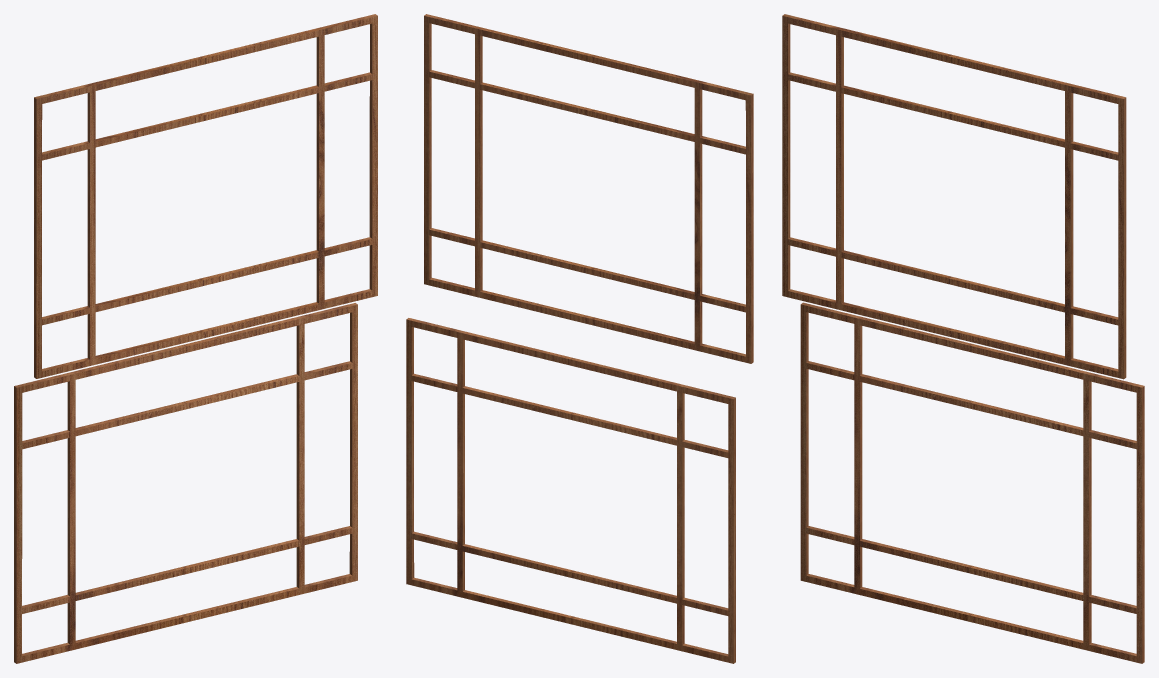
Rendered from Normal_SH_Big_Fractional.obj.
3 renders of one model, left to right at view 1: azimuth 30°, elevation 25°; view 2: azimuth 150°, elevation 25°; view 3: azimuth 330°, elevation 25°, orthographic. The views are drawn at different scales.
Visible parts, largest first — view 1: SH_Big_Fractional; view 2: SH_Big_Fractional; view 3: SH_Big_Fractional.
Boxes of the visible parts, bbox=[...] form: SH_Big_Fractional: bbox=[14, 14, 377, 663]; SH_Big_Fractional: bbox=[406, 14, 753, 663]; SH_Big_Fractional: bbox=[782, 14, 1144, 663].
Size of the model in its own units: 8.49 by 13.72 by 0.9292.
1 material, 1 textured.
